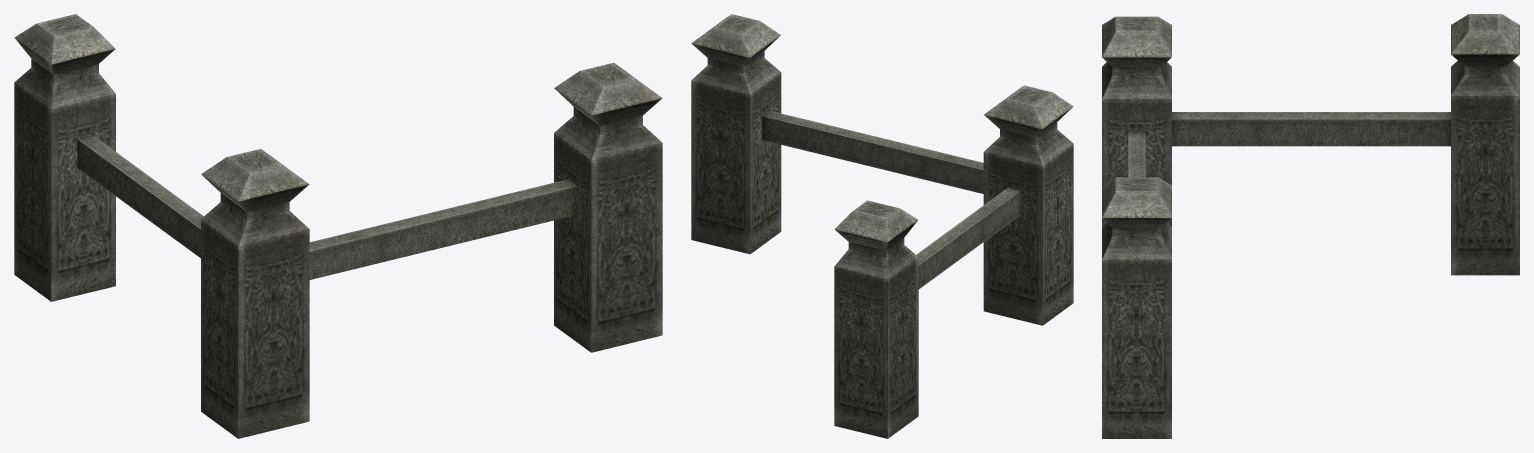
Rendered from stadium_02_01.fbx.
3 renders of one model, left to right at view 1: azimuth 30°, elevation 25°; view 2: azimuth 150°, elevation 25°; view 3: azimuth 270°, elevation 25°, orthographic. The views are drawn at different scales.
Parts seen in each view (by area): view 1: stadium_02_01; view 2: stadium_02_01; view 3: stadium_02_01.
Part boxes in pixels (x1,y1,x2,y2): stadium_02_01: (14, 14, 662, 438); stadium_02_01: (691, 14, 1073, 438); stadium_02_01: (1102, 14, 1519, 438).
Size of the model in its own units: 6.26 by 3.6 by 5.73.
